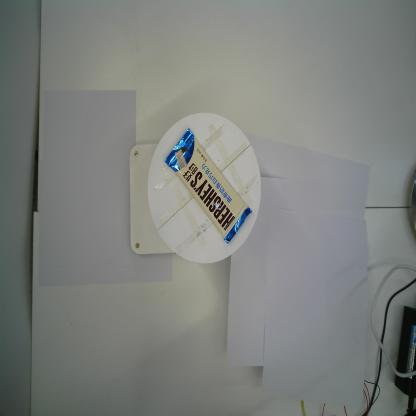Chocolate: (164, 129, 254, 247)
